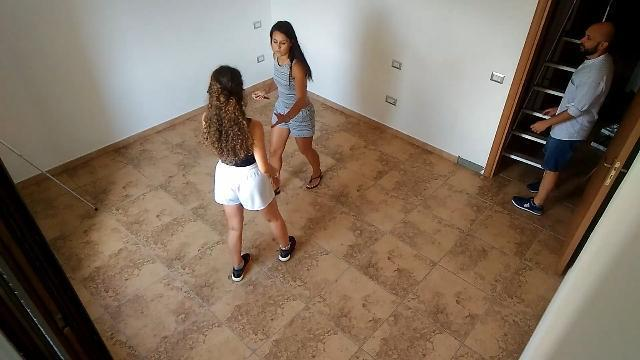non-violence: (512, 22, 618, 216)
violence: (201, 22, 322, 281)
